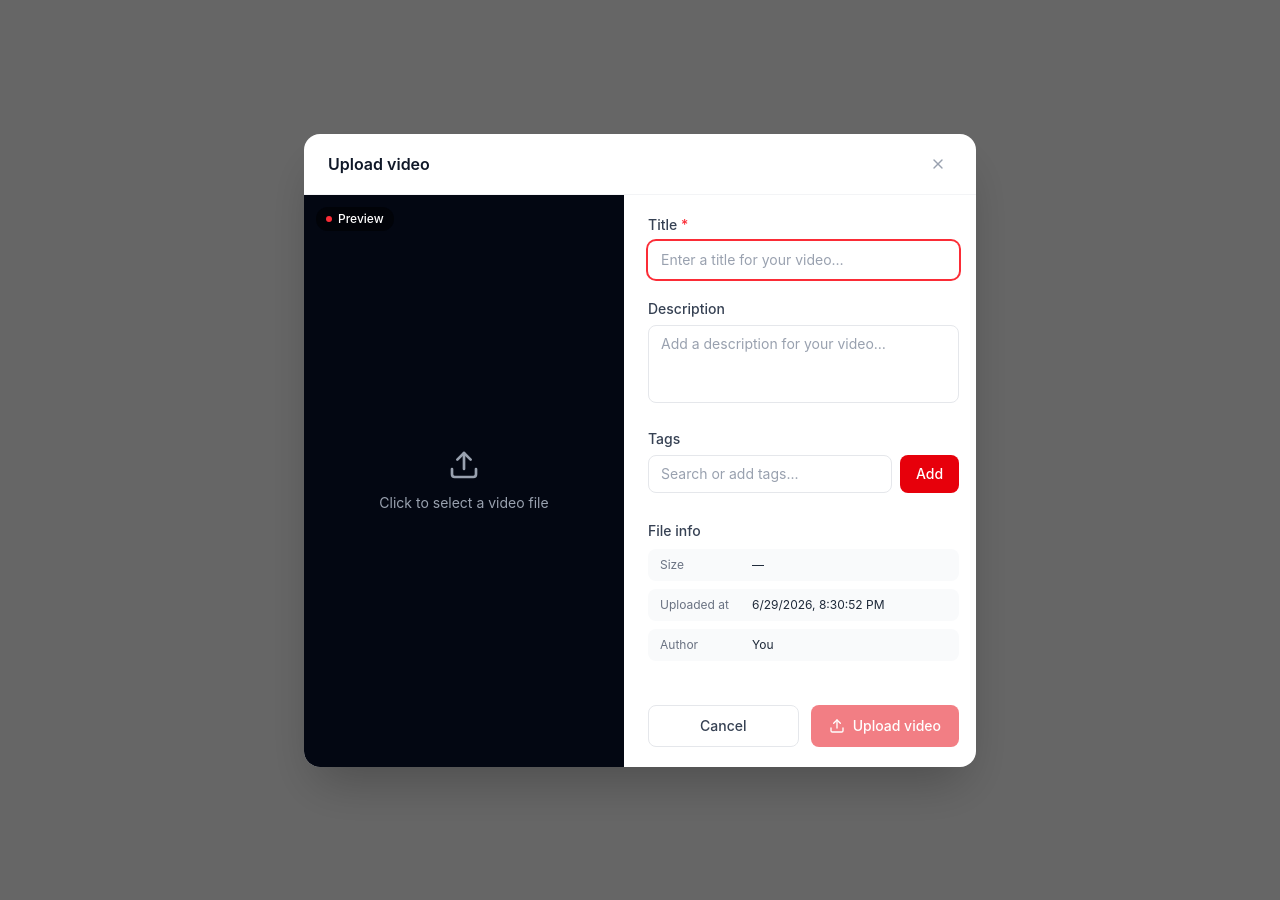
Test case: UploadVideoModal › handles tag addition and chip deletion
Type "Rust" into the field with placeholder "Search or add tags...". click: (770, 474)
box: [648,454,892,492]
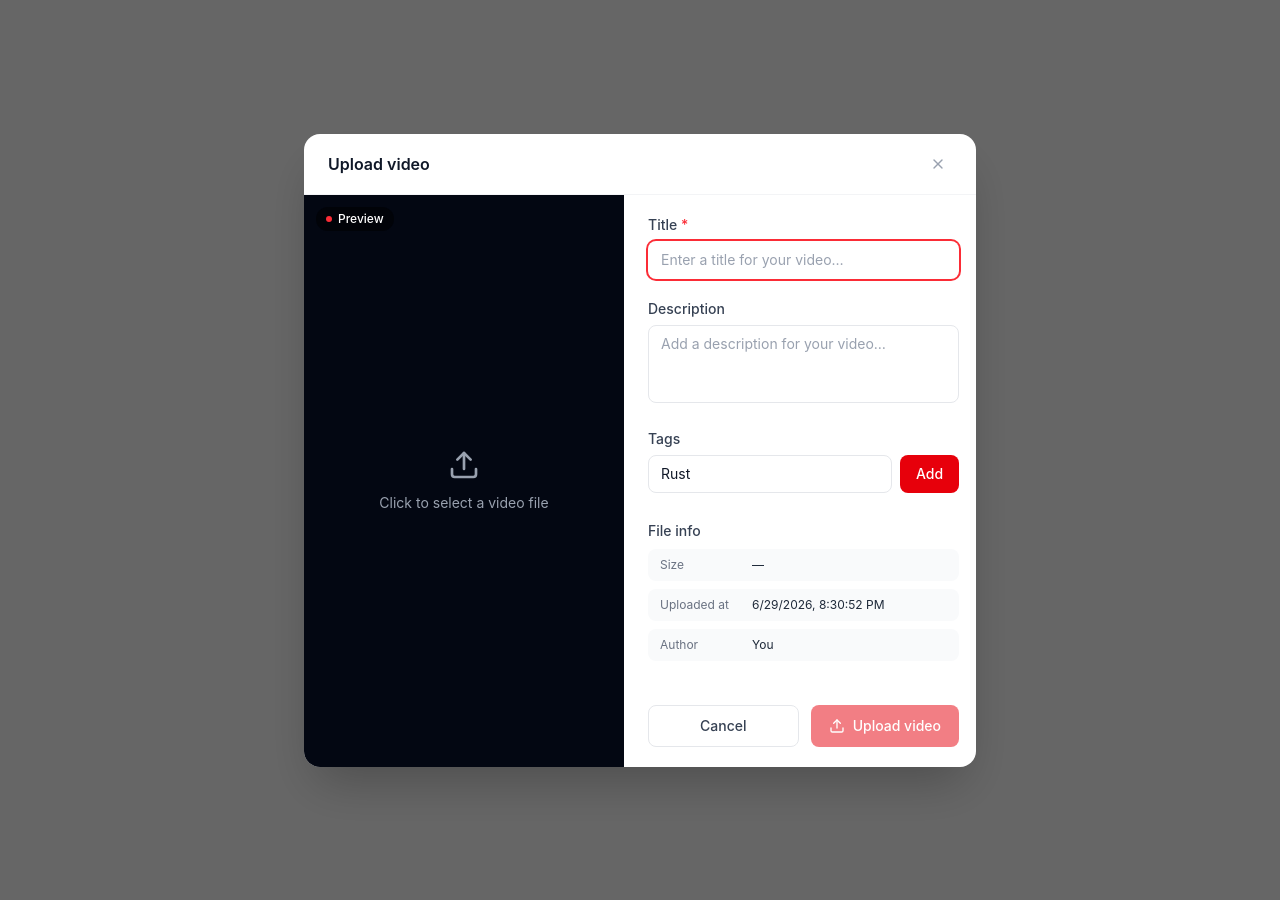
Click the button "Add". click: click(930, 474)
box: [900,454,959,492]
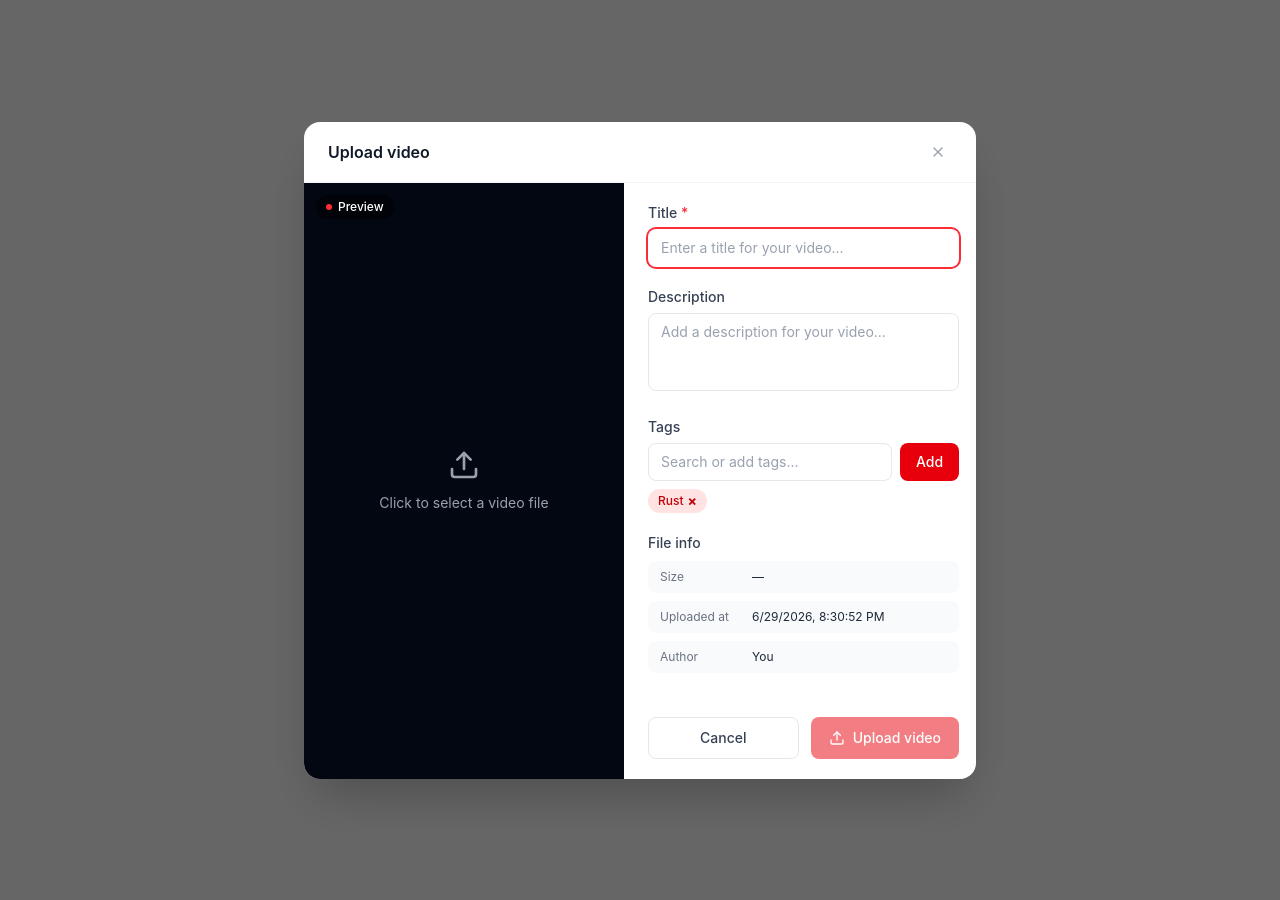
Check: the text "Rust" is shown, box [658,492,684,508]
Note: Click delete tag chip
Click the button "×". click: click(692, 500)
box: [688,494,697,508]
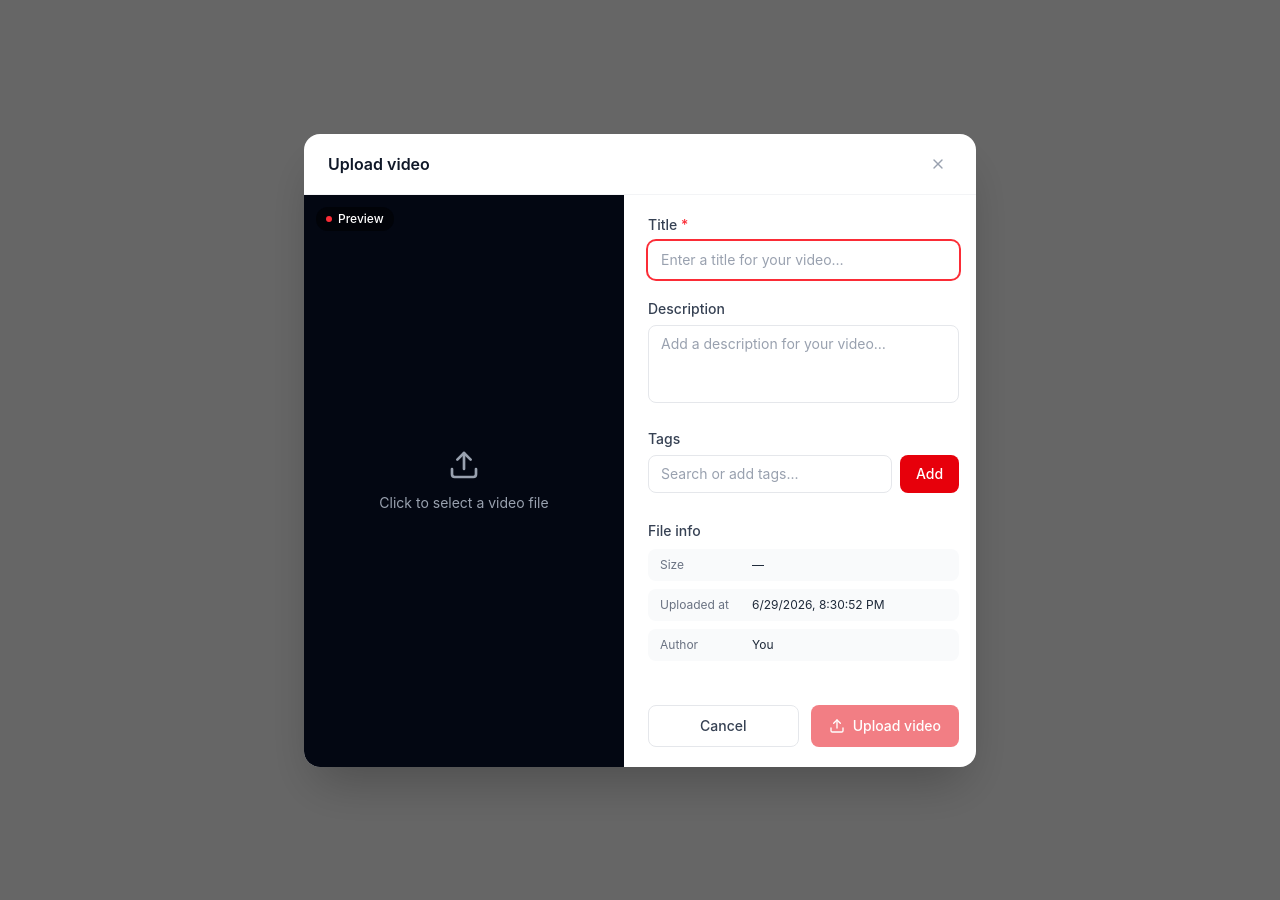
Check: the text "Rust" is gone
